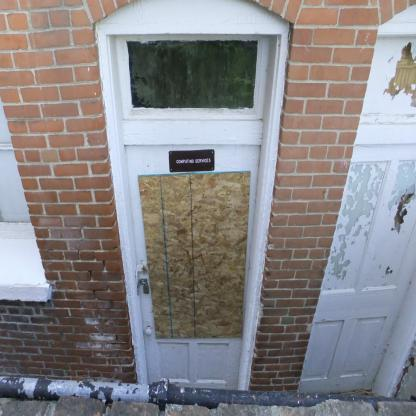door: (124, 147, 256, 390)
knob: (145, 326, 152, 339)
